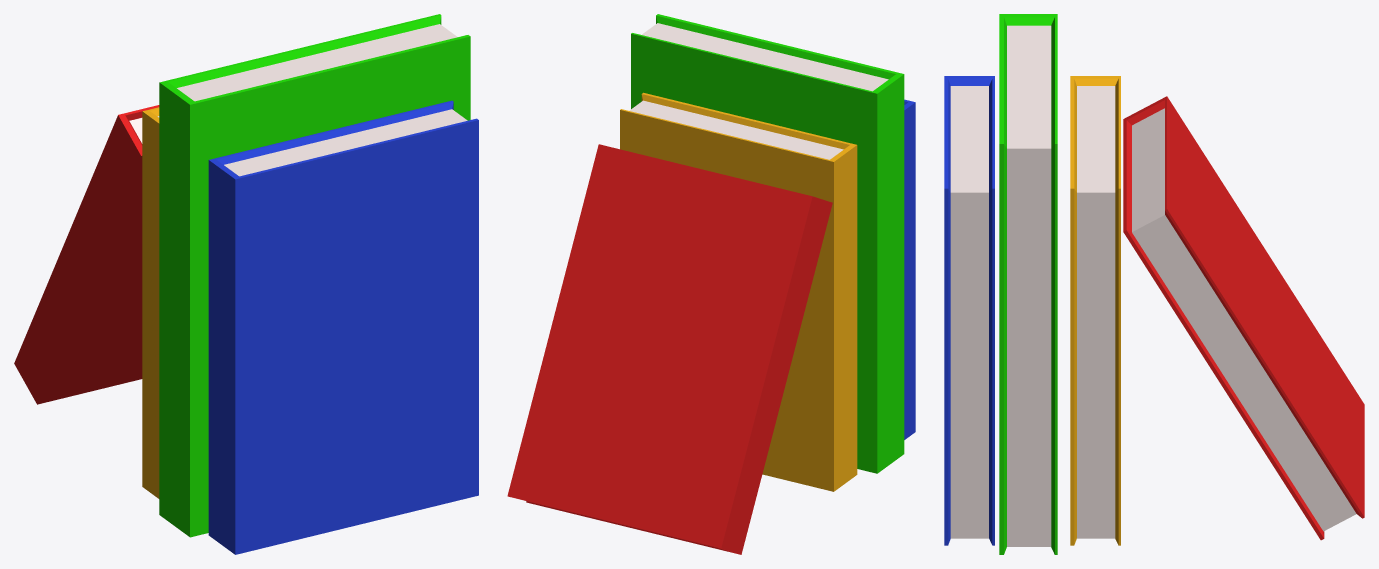
The model's file is Books(v1.Textured).fbx.
3 views of the same model, side by side, from view 1: azimuth 30°, elevation 25°; view 2: azimuth 150°, elevation 25°; view 3: azimuth 270°, elevation 25° (orthographic). The views are drawn at different scales.
Parts seen in each view (by area): view 1: Book_Closed; view 2: Book_Closed; view 3: Book_Closed.
Boxes of the visible parts, bbox=[...] form: Book_Closed: bbox=[14, 14, 478, 554]; Book_Closed: bbox=[507, 14, 915, 554]; Book_Closed: bbox=[944, 14, 1364, 554].
Size of the model in its own units: 307 by 453 by 420.
